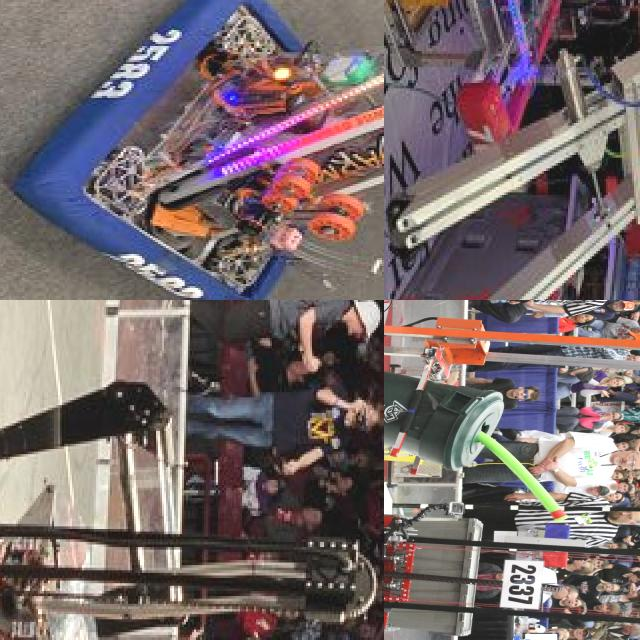FRC-Robots: (0, 0, 384, 300), (0, 365, 298, 640), (384, 0, 640, 300), (384, 478, 640, 640), (384, 300, 640, 389)
